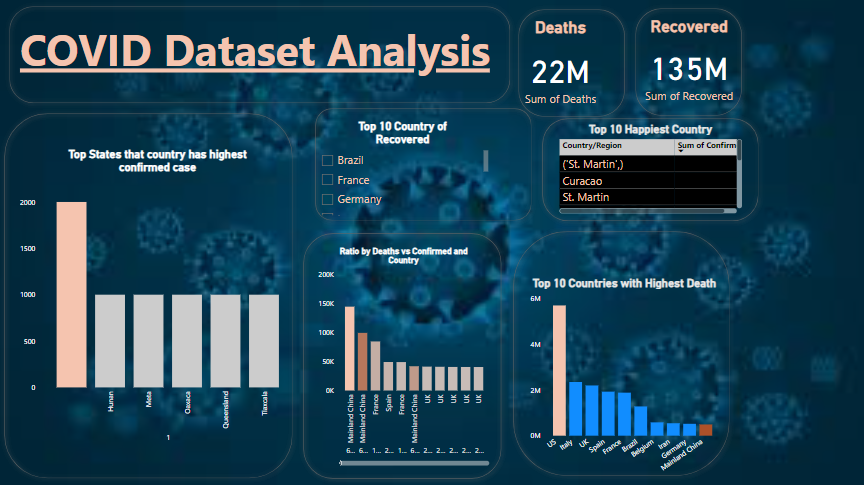

What the dashboard file says about the page in this screenshot:
{"tool":"powerbi","page":{"name":"Page 1","canvas":[1475,860],"ordinal":0},"visuals":[{"type":"shape","box":[2,200,506,636],"z":0},{"type":"shape","box":[10,18,866,182],"z":1000},{"type":"shape","box":[864,400,384,432],"z":2000},{"type":"columnChart","title":"Top 10 Countries with Highest Death","fields":{"Category":["covid_dataset.Country/Region"],"Y":["Sum(covid_dataset.Deaths)"]},"box":[895,483.3,330,353.3],"z":3000},{"type":"shape","box":[1070,21.7,198.3,200],"z":4000},{"type":"columnChart","title":"Top States that country has highest confirmed case","fields":{"Y":["Sum(covid_dataset.Confirmed)"],"Category":["covid_dataset.States","covid_dataset.Province/State"]},"box":[32,266,476,514],"z":5000},{"type":"textbox","box":[32,46,876,154],"z":6000},{"type":"shape","box":[508.3,403.3,353.3,433.3],"z":7000},{"type":"columnChart","title":"Ratio by Deaths vs Confirmed and Country","fields":{"Category":["covid_dataset.Confirmed","covid_dataset.Country/Region"],"Y":["Sum(covid_dataset.Deaths)"]},"box":[536.7,433.3,300,376.7],"z":8000},{"type":"shape","box":[528,192,384,208],"z":9000},{"type":"slicer","title":"Top 10 Country of Recovered","fields":{"Values":["covid_dataset.Country/Region"]},"box":[535,218.3,300,168.3],"z":10000},{"type":"shape","box":[871.7,23.3,198.3,200],"z":11000},{"type":"card","title":"Deaths","fields":{"Values":["Sum(covid_dataset.Deaths)"]},"box":[848,48,208,160],"z":12000},{"type":"card","title":"Recovered","fields":{"Values":["Sum(covid_dataset.Recovered)"]},"box":[1078.3,45,183.3,153.3],"z":13000},{"type":"shape","box":[912,208,384,192],"z":14000},{"type":"tableEx","title":"Top 10 Happiest Country","fields":{"Values":["covid_dataset.Country/Region","Sum(covid_dataset.Confirmed)"]},"box":[944,224,320,160],"z":15000}]}

Visuals, with their boxes on the page's 1475x860 design canvas (x1, y1, x2, y2). These are canvas units, not pixel positions in the 864x485 screenshot, which may show the page scaled, cropped or inside an application window:
shape: bbox=(2, 200, 508, 836)
shape: bbox=(10, 18, 876, 200)
shape: bbox=(864, 400, 1248, 832)
"Top 10 Countries with Highest Death" columnChart: bbox=(895, 483, 1225, 837)
shape: bbox=(1070, 22, 1268, 222)
"Top States that country has highest confirmed case" columnChart: bbox=(32, 266, 508, 780)
textbox: bbox=(32, 46, 908, 200)
shape: bbox=(508, 403, 862, 837)
"Ratio by Deaths vs Confirmed and Country" columnChart: bbox=(537, 433, 837, 810)
shape: bbox=(528, 192, 912, 400)
"Top 10 Country of Recovered" slicer: bbox=(535, 218, 835, 387)
shape: bbox=(872, 23, 1070, 223)
"Deaths" card: bbox=(848, 48, 1056, 208)
"Recovered" card: bbox=(1078, 45, 1262, 198)
shape: bbox=(912, 208, 1296, 400)
"Top 10 Happiest Country" tableEx: bbox=(944, 224, 1264, 384)
